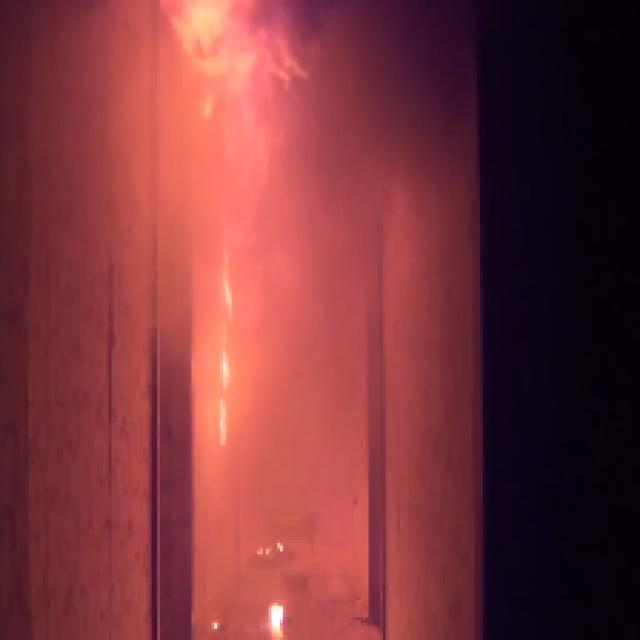Fire: (166, 2, 266, 134), (211, 251, 243, 446), (266, 600, 288, 629)
Smoke: (279, 5, 452, 248)
